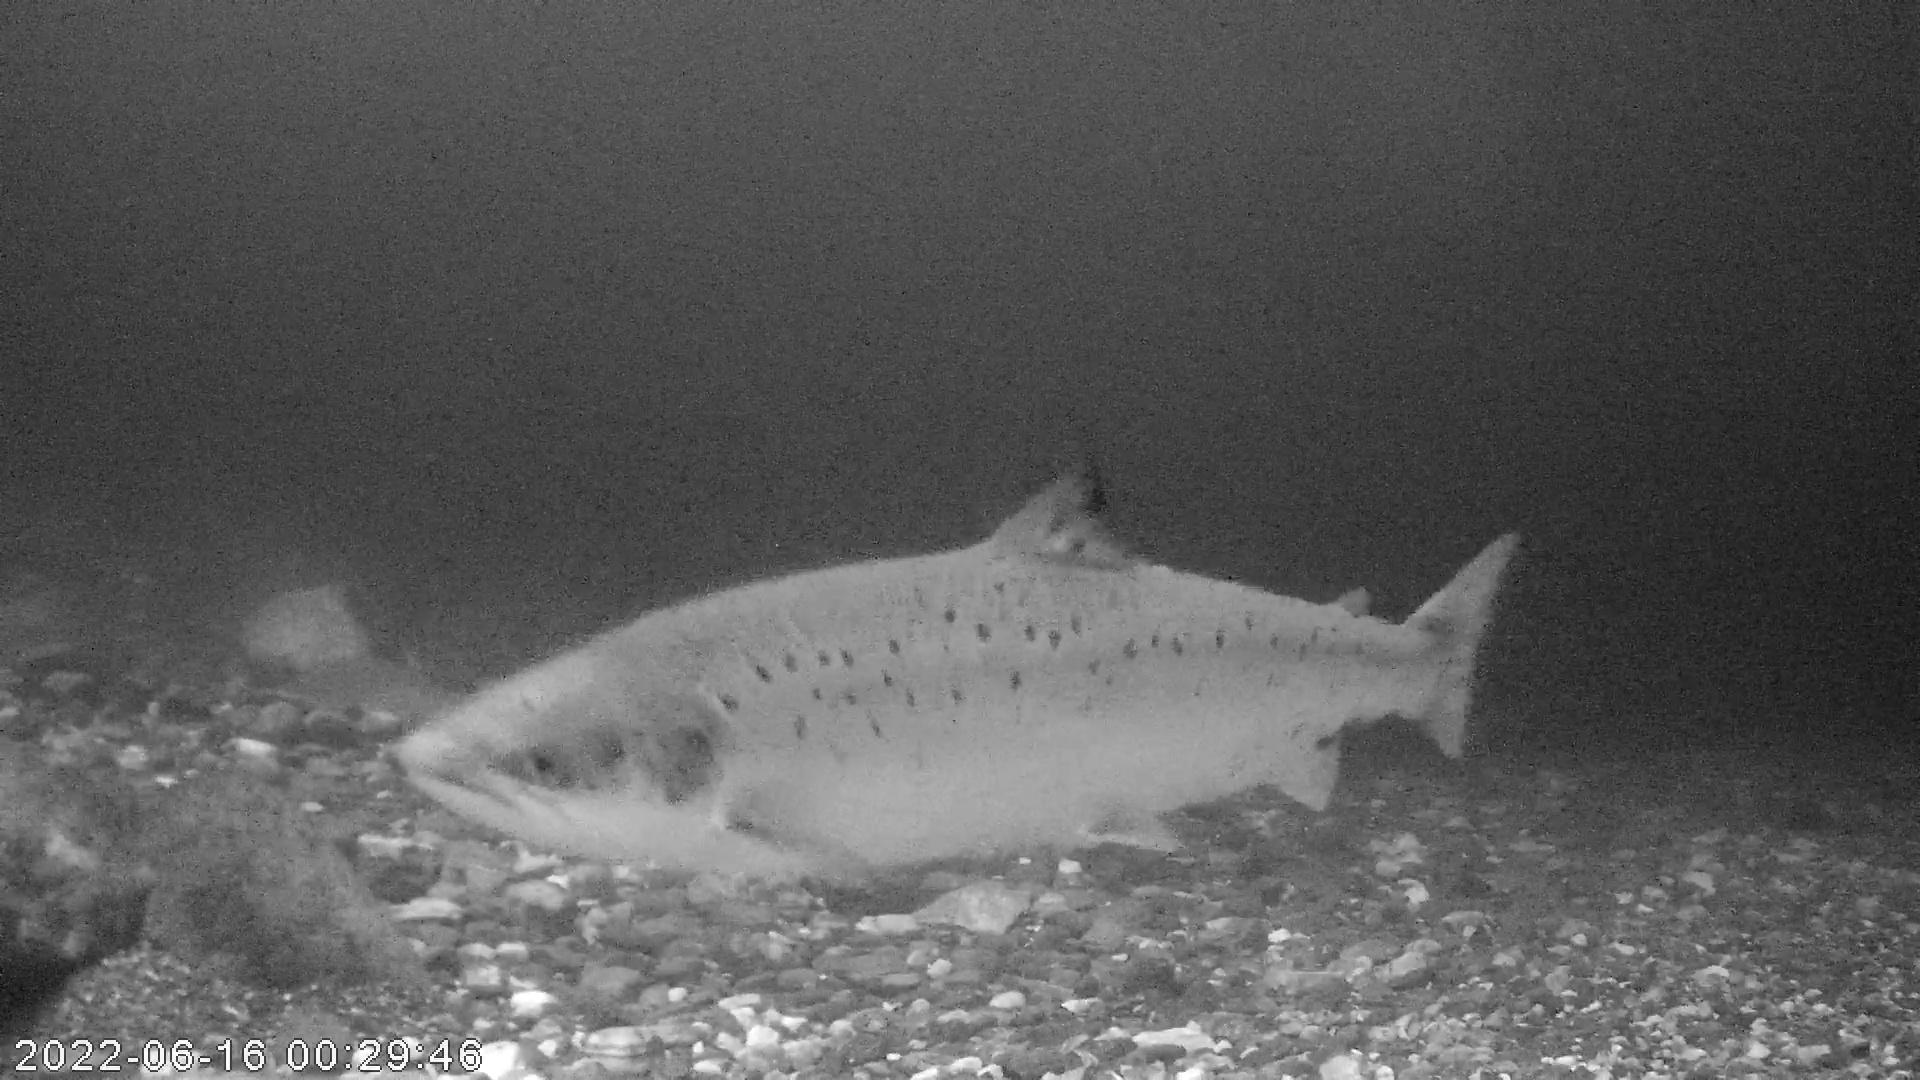salmon: (396, 454, 1523, 891)
